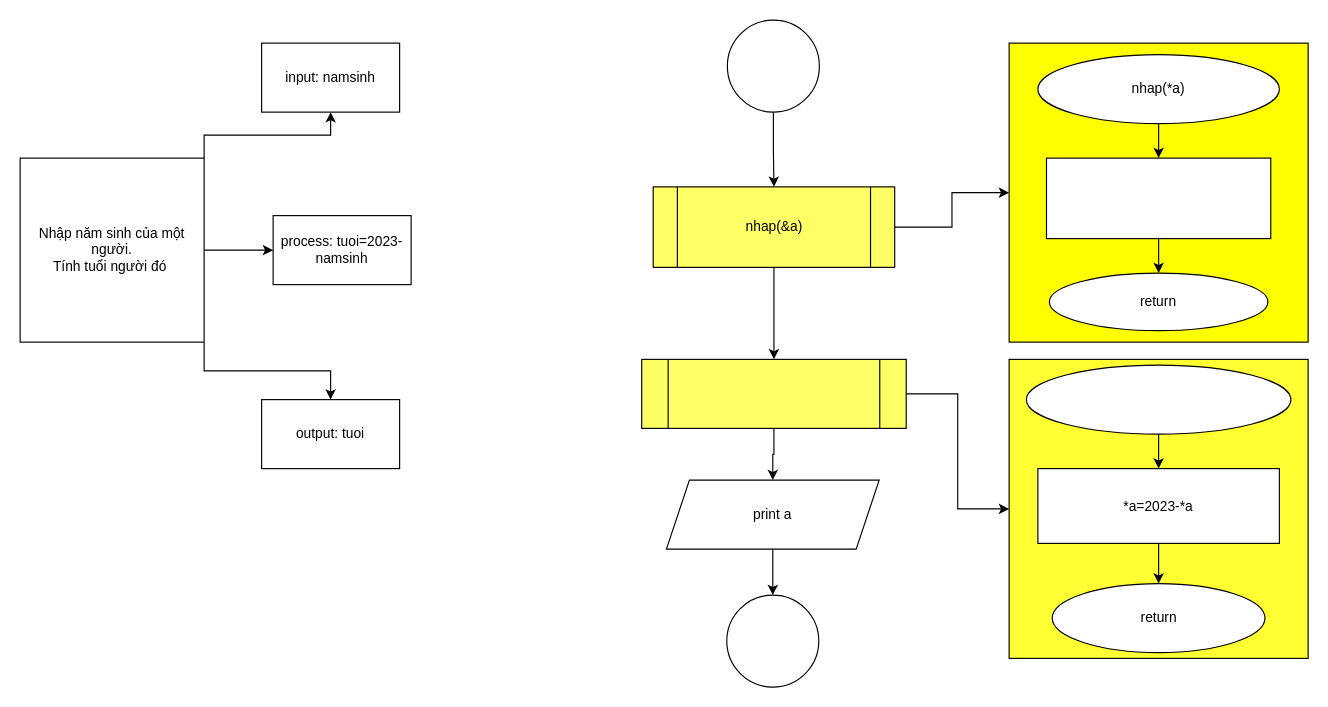
The diagram is 1328 pixels wide and 707 high, and some of its shapes have lost their labels. Here are the shapes that lost their labels. From the top down, the centre of each, then its label:
At (x=772, y=65): "begin".
At (x=1158, y=198): "read a".
At (x=773, y=393): "tinhtuoi(&a)".
At (x=1158, y=399): "tinhtuoi(*a)".
At (x=772, y=640): "end".
